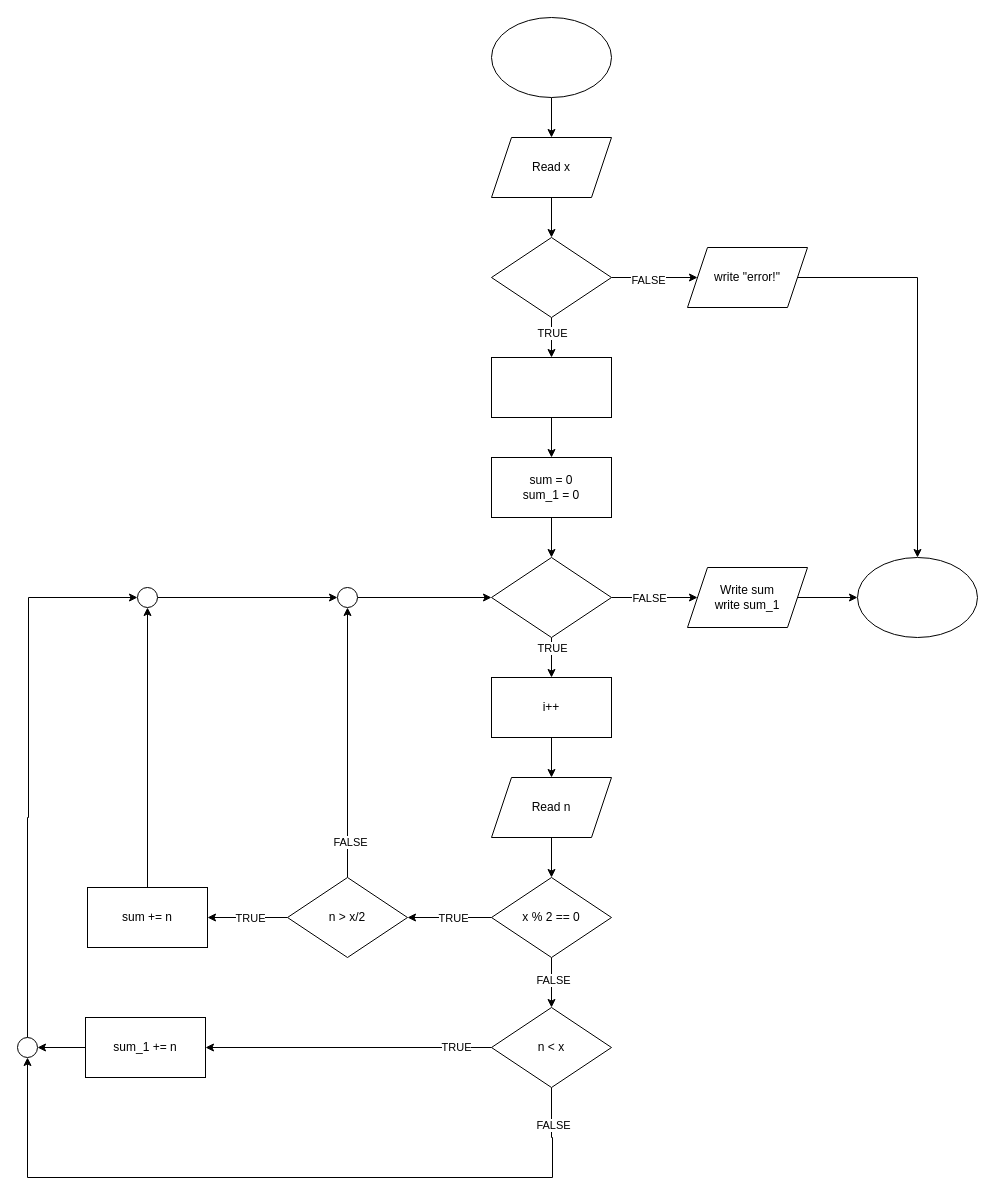
This 995x1203 diagram has some shape labels left out. The centre of each missing label's shape, as x and y in pixels:
"END" belongs at point 917,597.
"i < 10" belongs at point 551,597.
"i = 0" belongs at point 551,387.
"START" belongs at point 551,57.
"x > 0" belongs at point 551,277.
